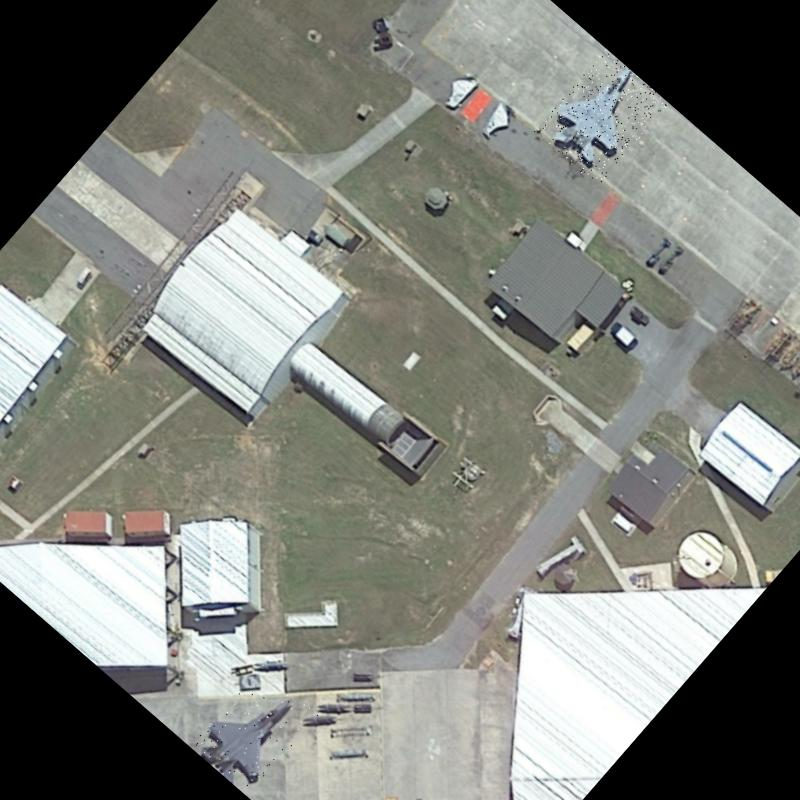A13: (534, 49, 669, 187), (190, 664, 319, 796)
